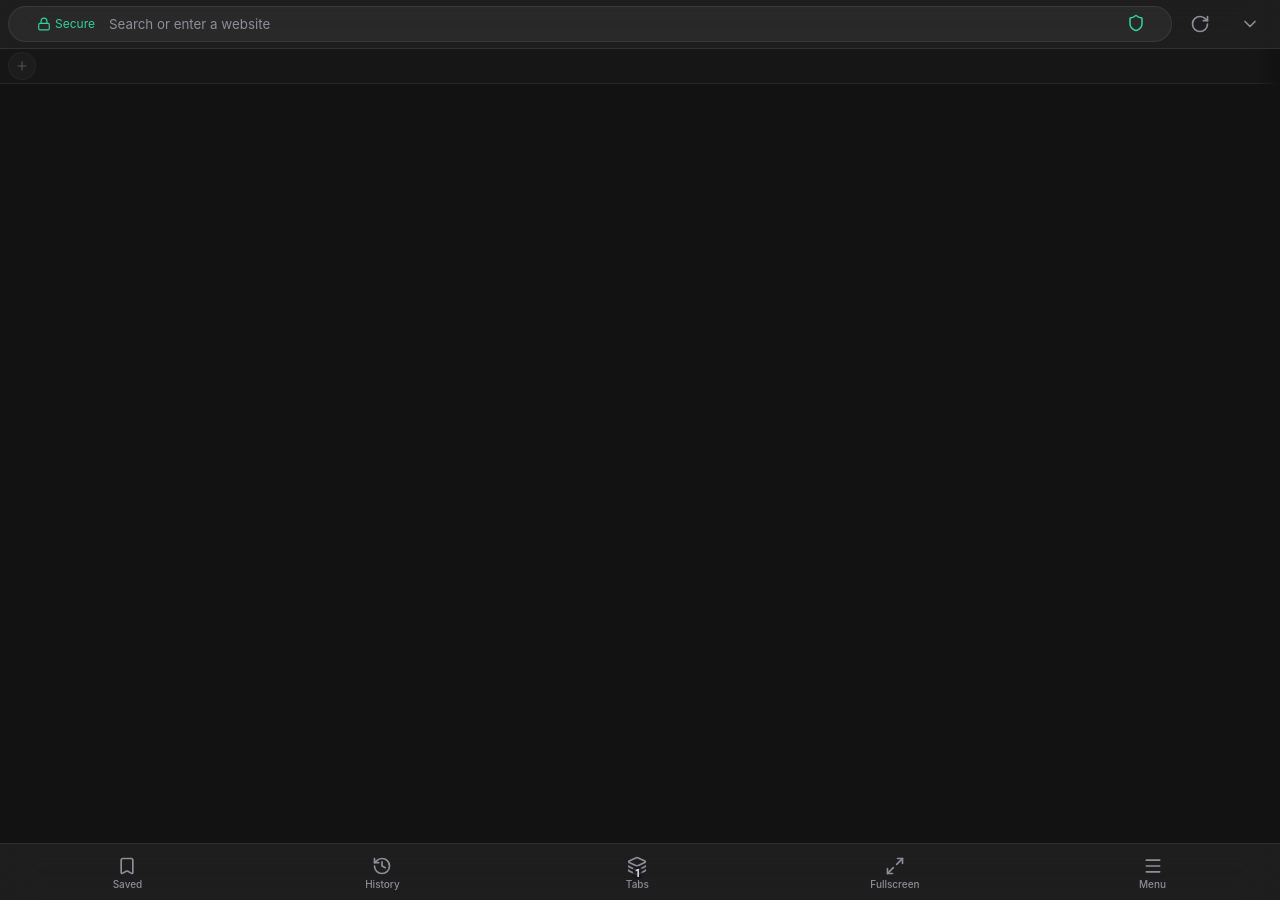
Test: MobileApp › opens the bookmarks manager from the favourites-bar "+" instead of adding directly
Click the button named "add bookmark" at x=22, y=66, box [8,52,36,80]
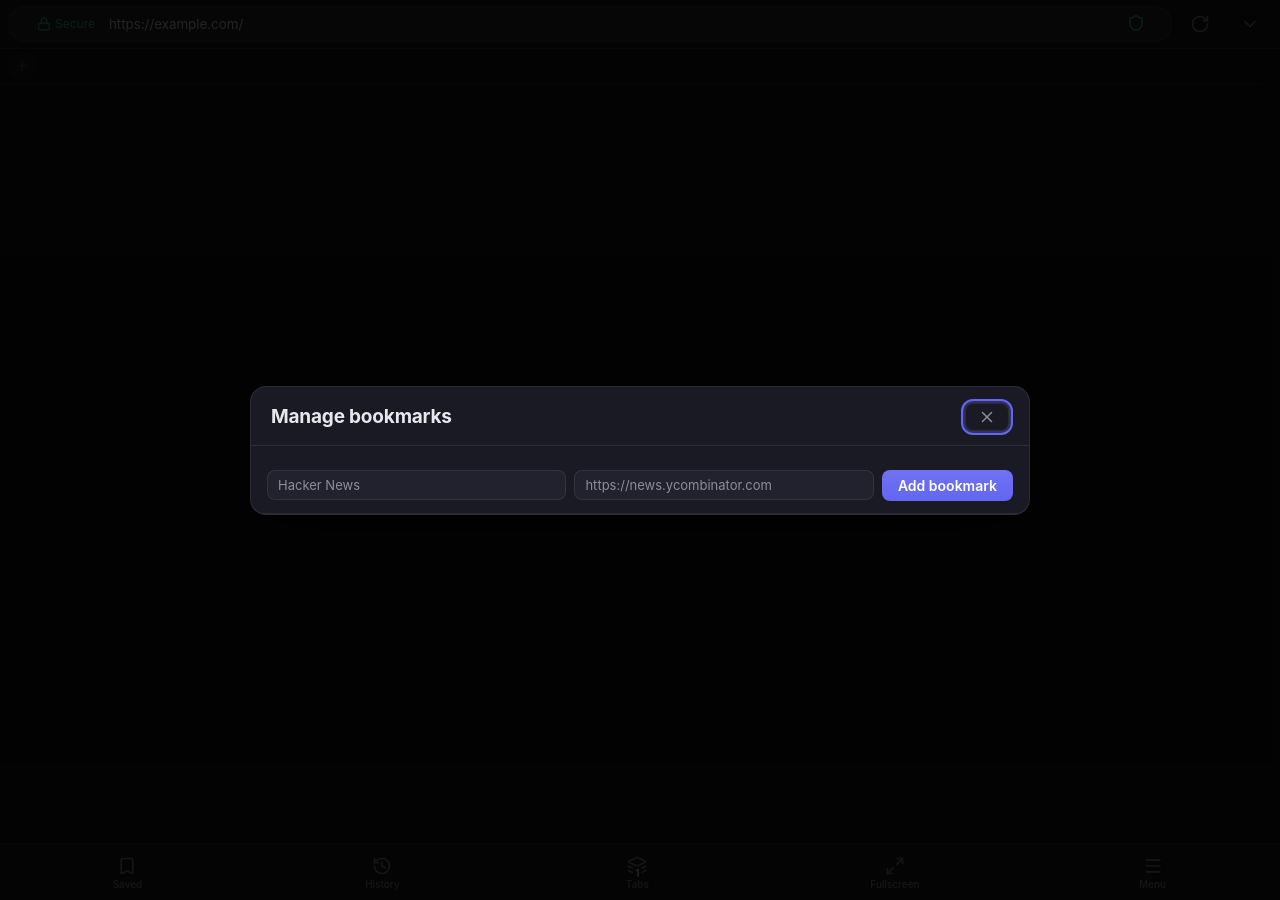
Check: the dialog "Manage bookmarks Add bookmark" is shown, box [250,386,1030,514]
